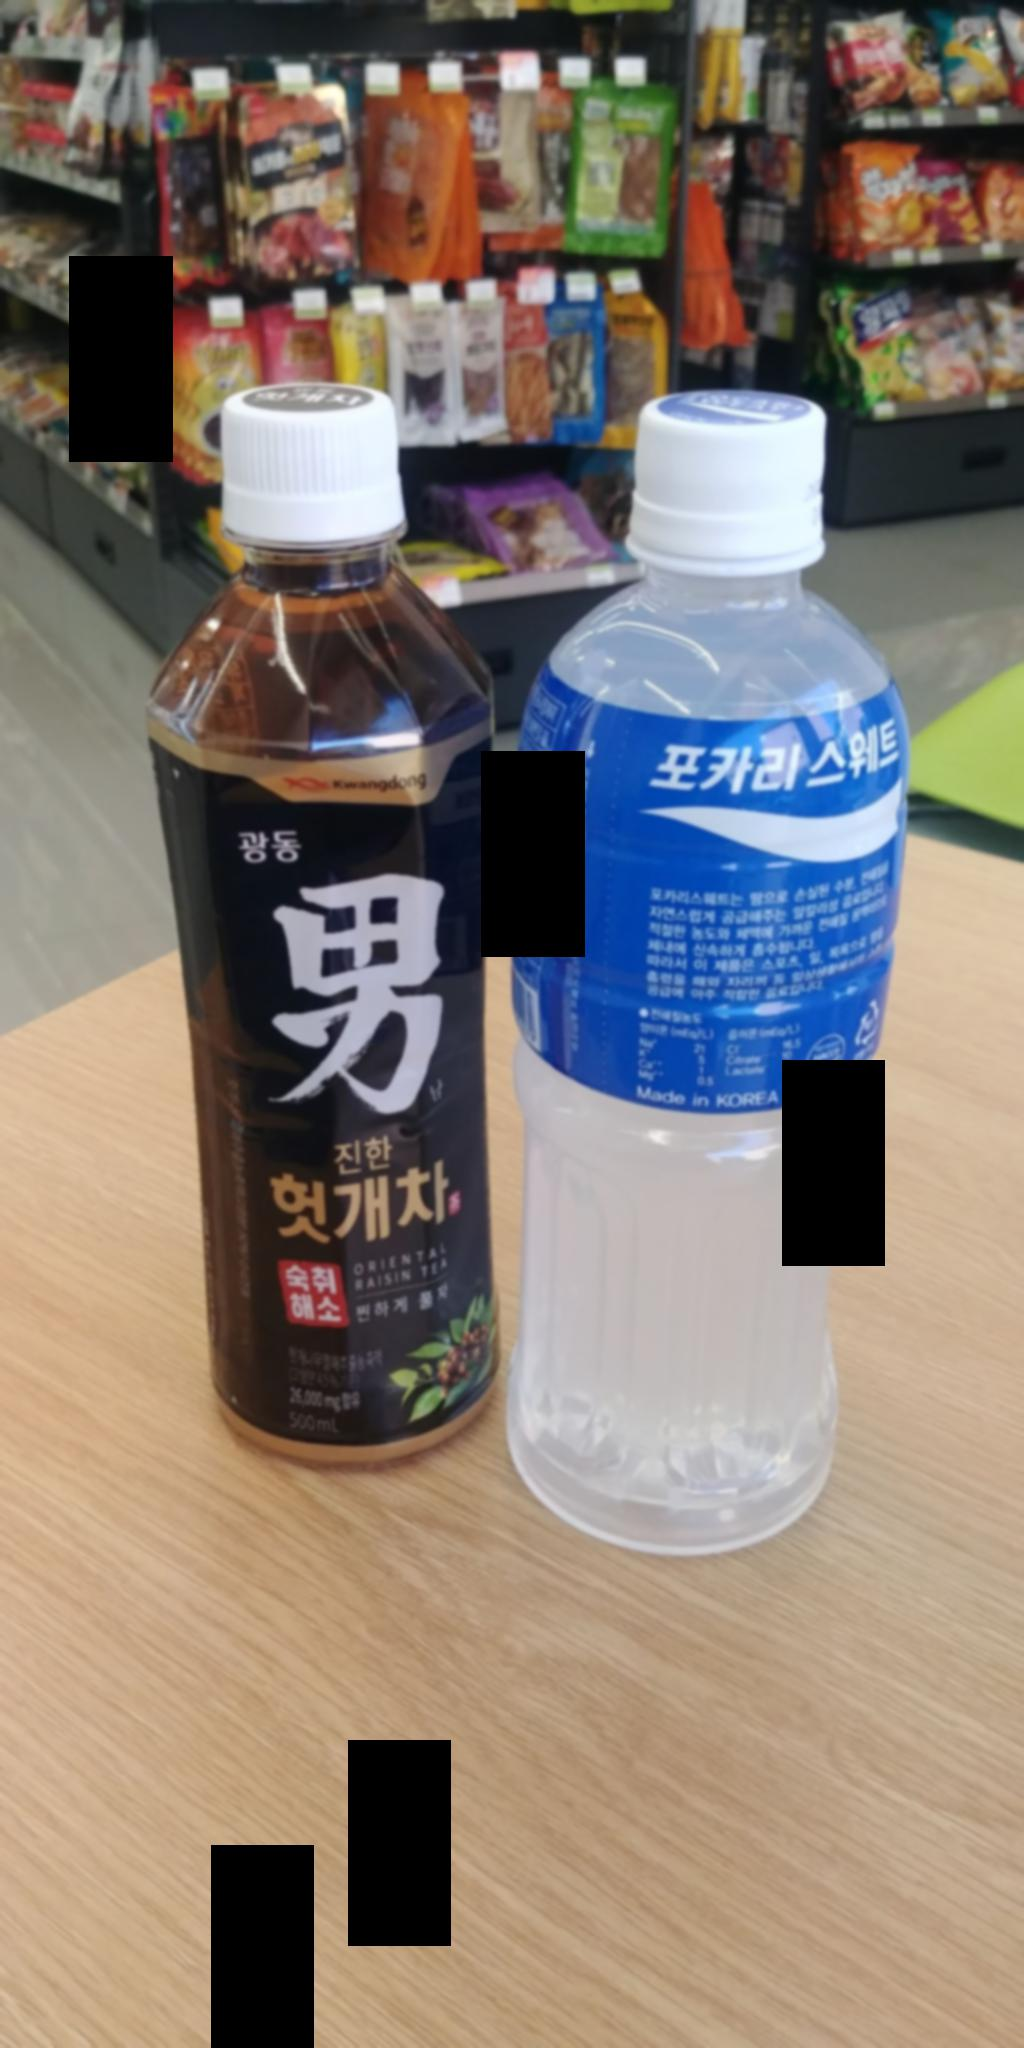heotgaecha: (114, 375, 529, 1481)
pocarisweat: (496, 362, 930, 1596)
